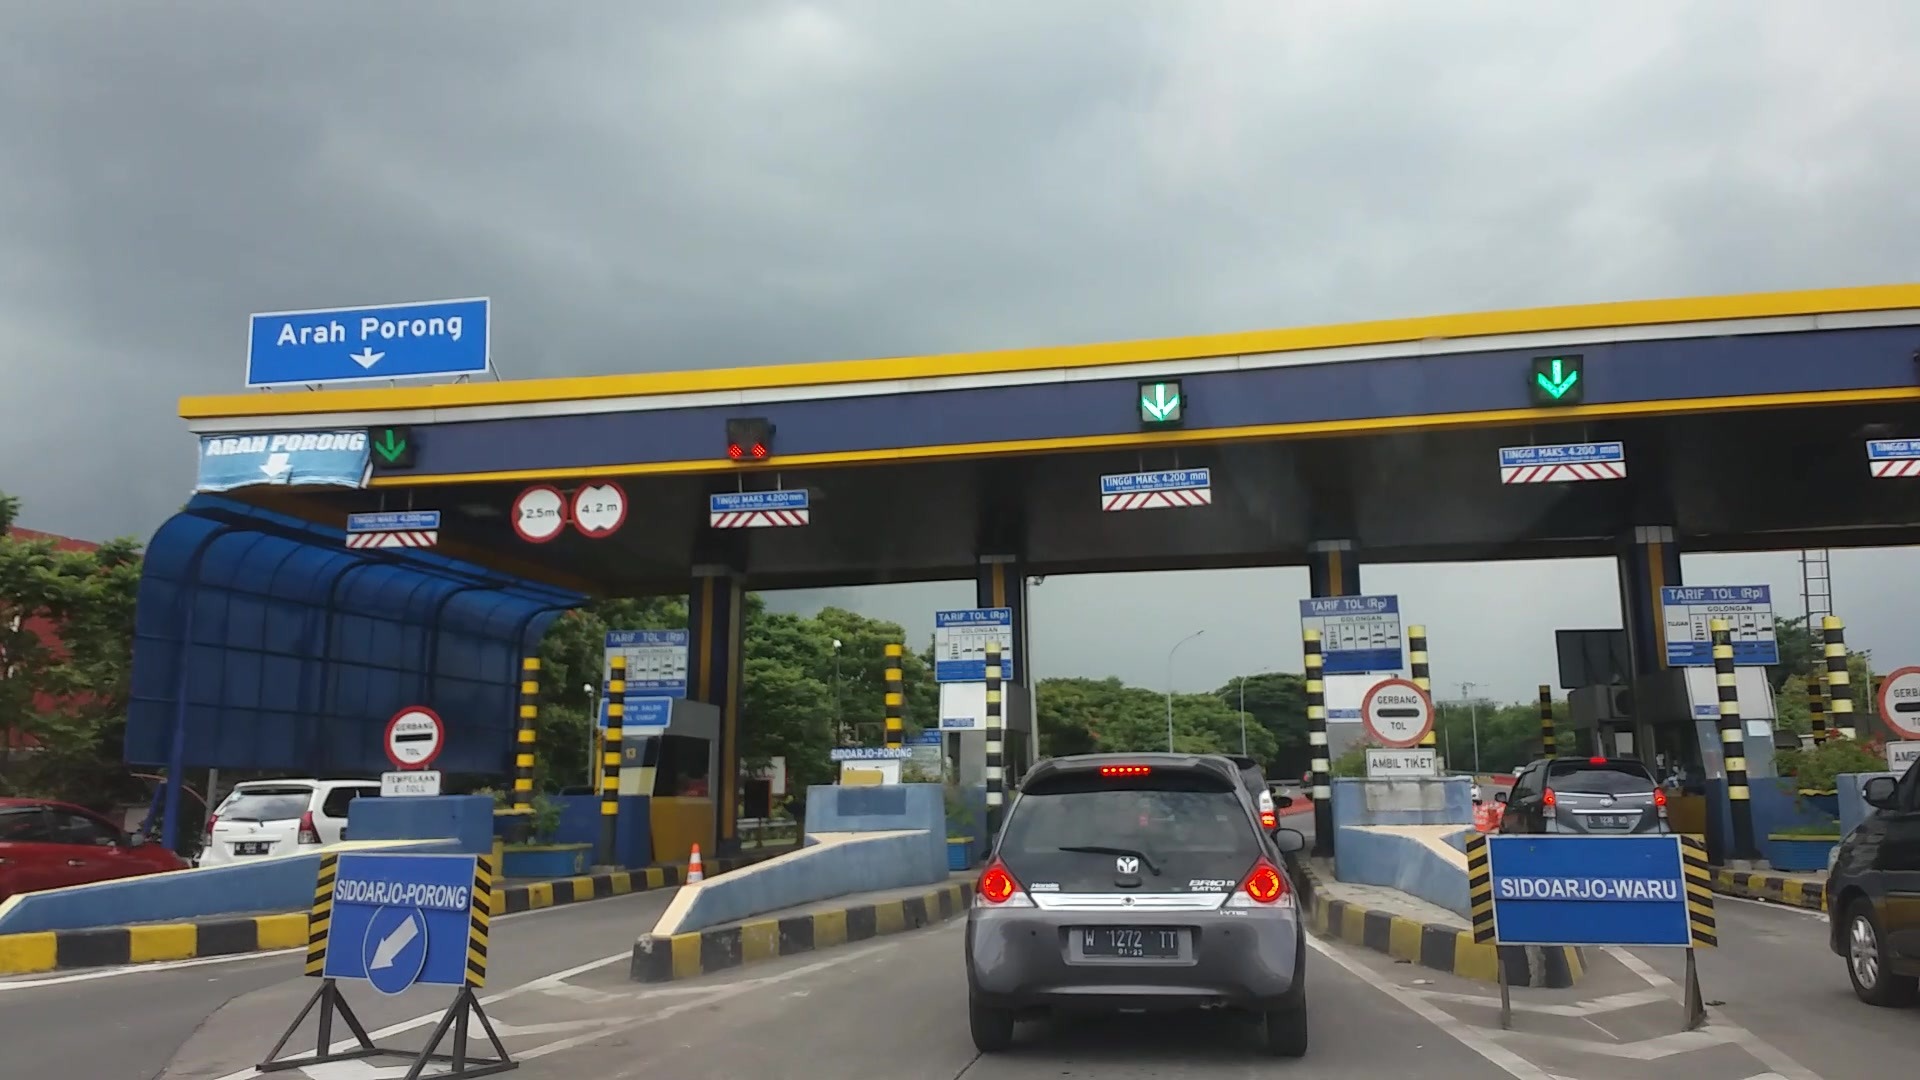plate_positive: (1083, 926, 1179, 959)
